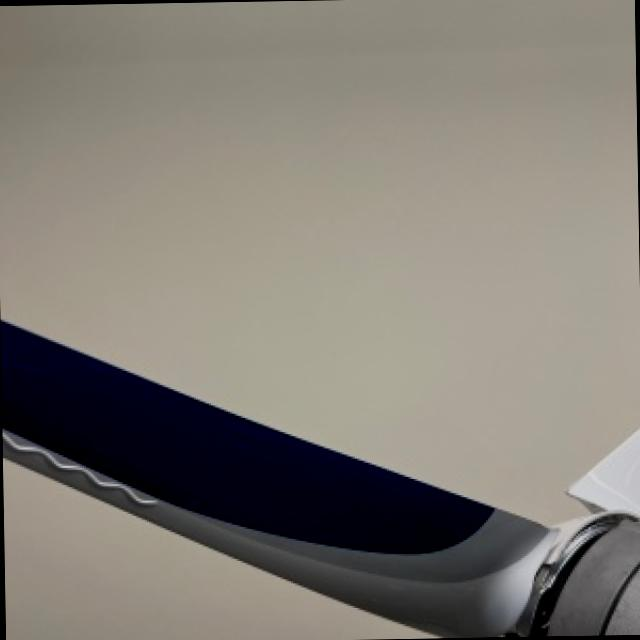healthy: (4, 319, 640, 636)
